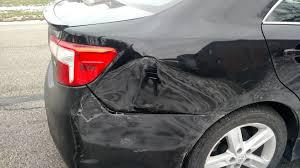quaterpanel-dent: (107, 25, 281, 130)
rear-bumper-dent: (22, 110, 230, 167)
